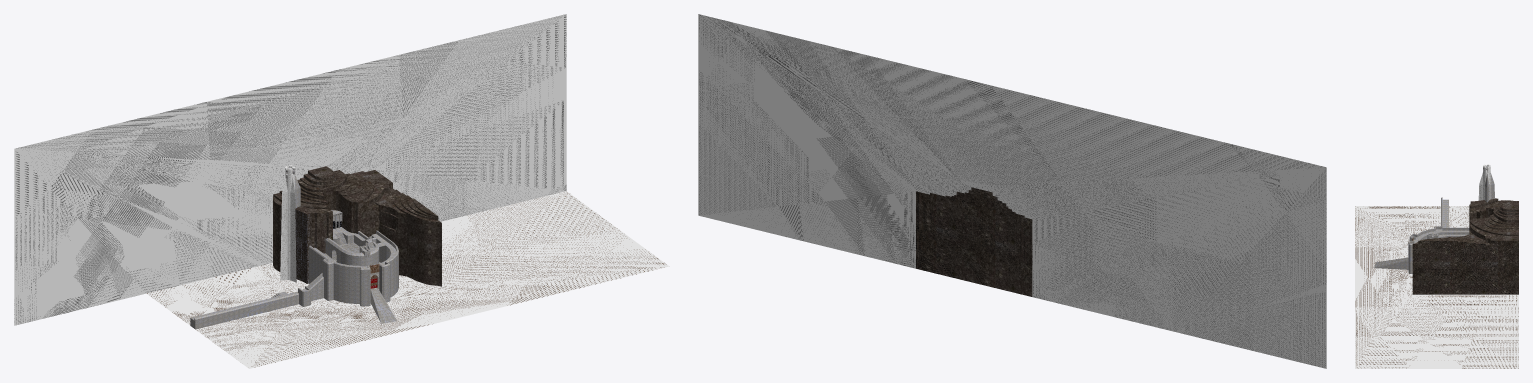
3 views of the same model, side by side, from view 1: azimuth 30°, elevation 25°; view 2: azimuth 150°, elevation 25°; view 3: azimuth 270°, elevation 25° (orthographic). The views are drawn at different scales.
Visible parts, largest first — view 1: SketchUp (×6); view 2: SketchUp (×2); view 3: SketchUp (×6).
Part boxes in pixels (x1=…): SketchUp (×6): x1=14, y1=14, x2=668, y2=368; SketchUp (×2): x1=698, y1=14, x2=1326, y2=368; SketchUp (×6): x1=1355, y1=164, x2=1518, y2=368.
Bounding box in the file's own units: 12764 × 4123 × 3930.
Materials: 13 (5 with a texture image).
